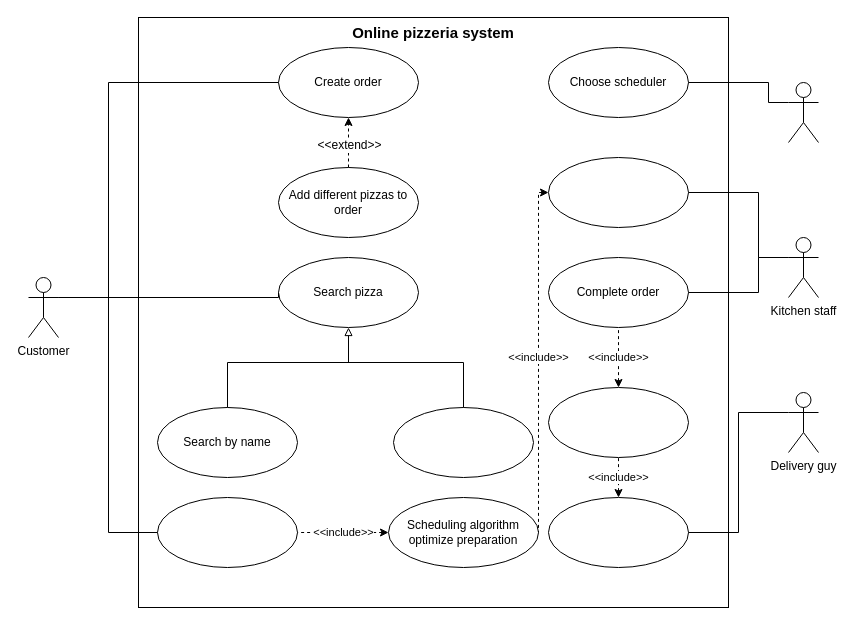
Image size: 853x625. Some labels were removed from this diagram. The centre of each missing label's shape, as x and y in pixels:
"Carry delivery" belongs at (618,532).
"Confirm order" belongs at (227,532).
"Manager" belongs at (803,112).
"Prepare order" belongs at (618,192).
"Scheduling algorithm optimize runs" belongs at (618,422).
"Search by ingredients" belongs at (463,442).
